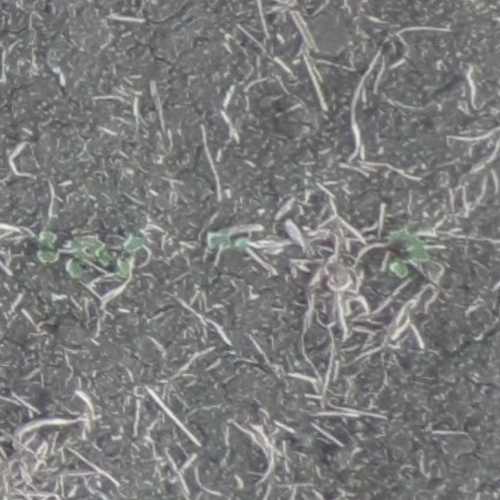clumped: (38, 230, 146, 279)
isolated: (386, 227, 429, 279), (204, 230, 254, 251)
